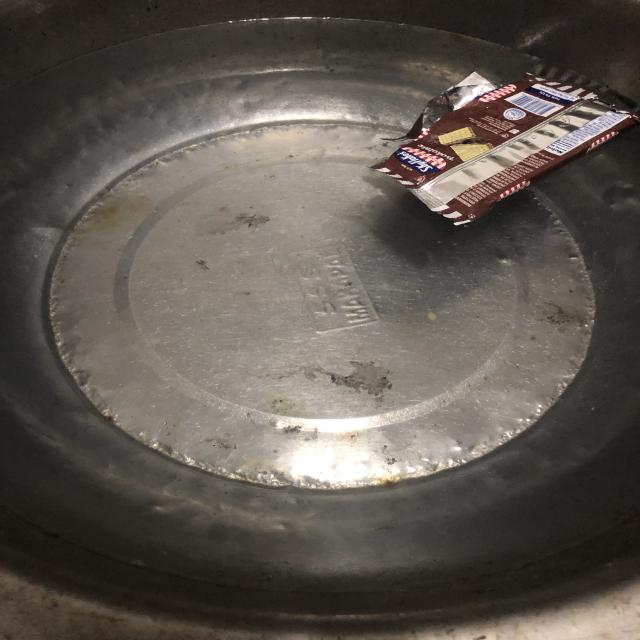Plastic Wrapper: (379, 64, 640, 230)
